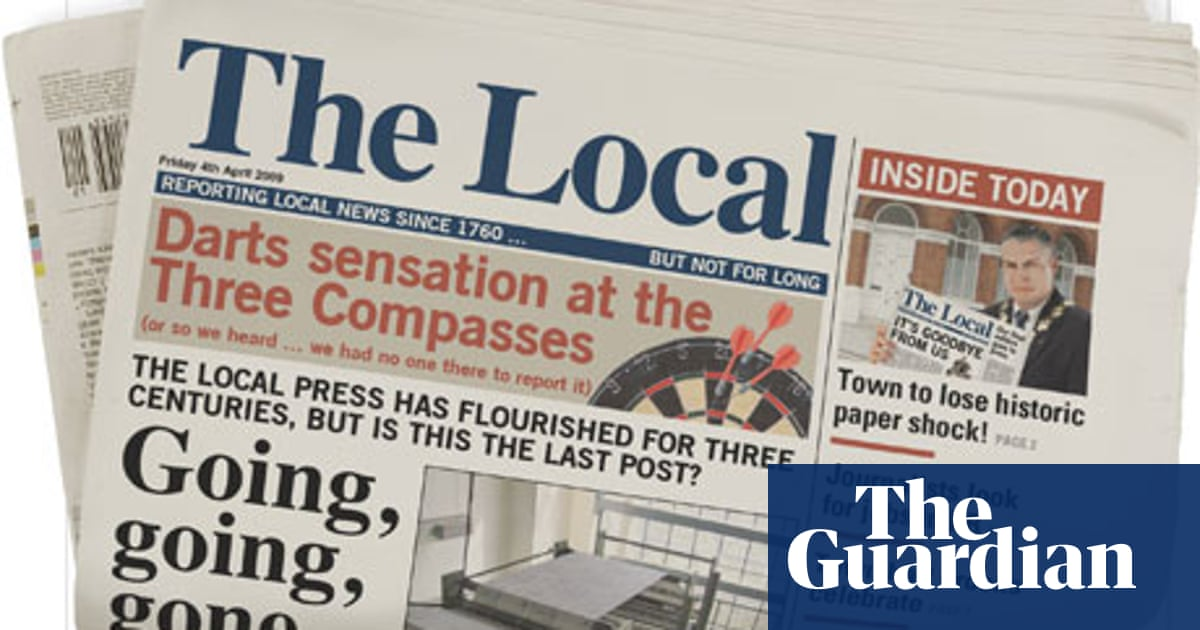news_paper: (60, 1, 1200, 630), (3, 2, 536, 630)
